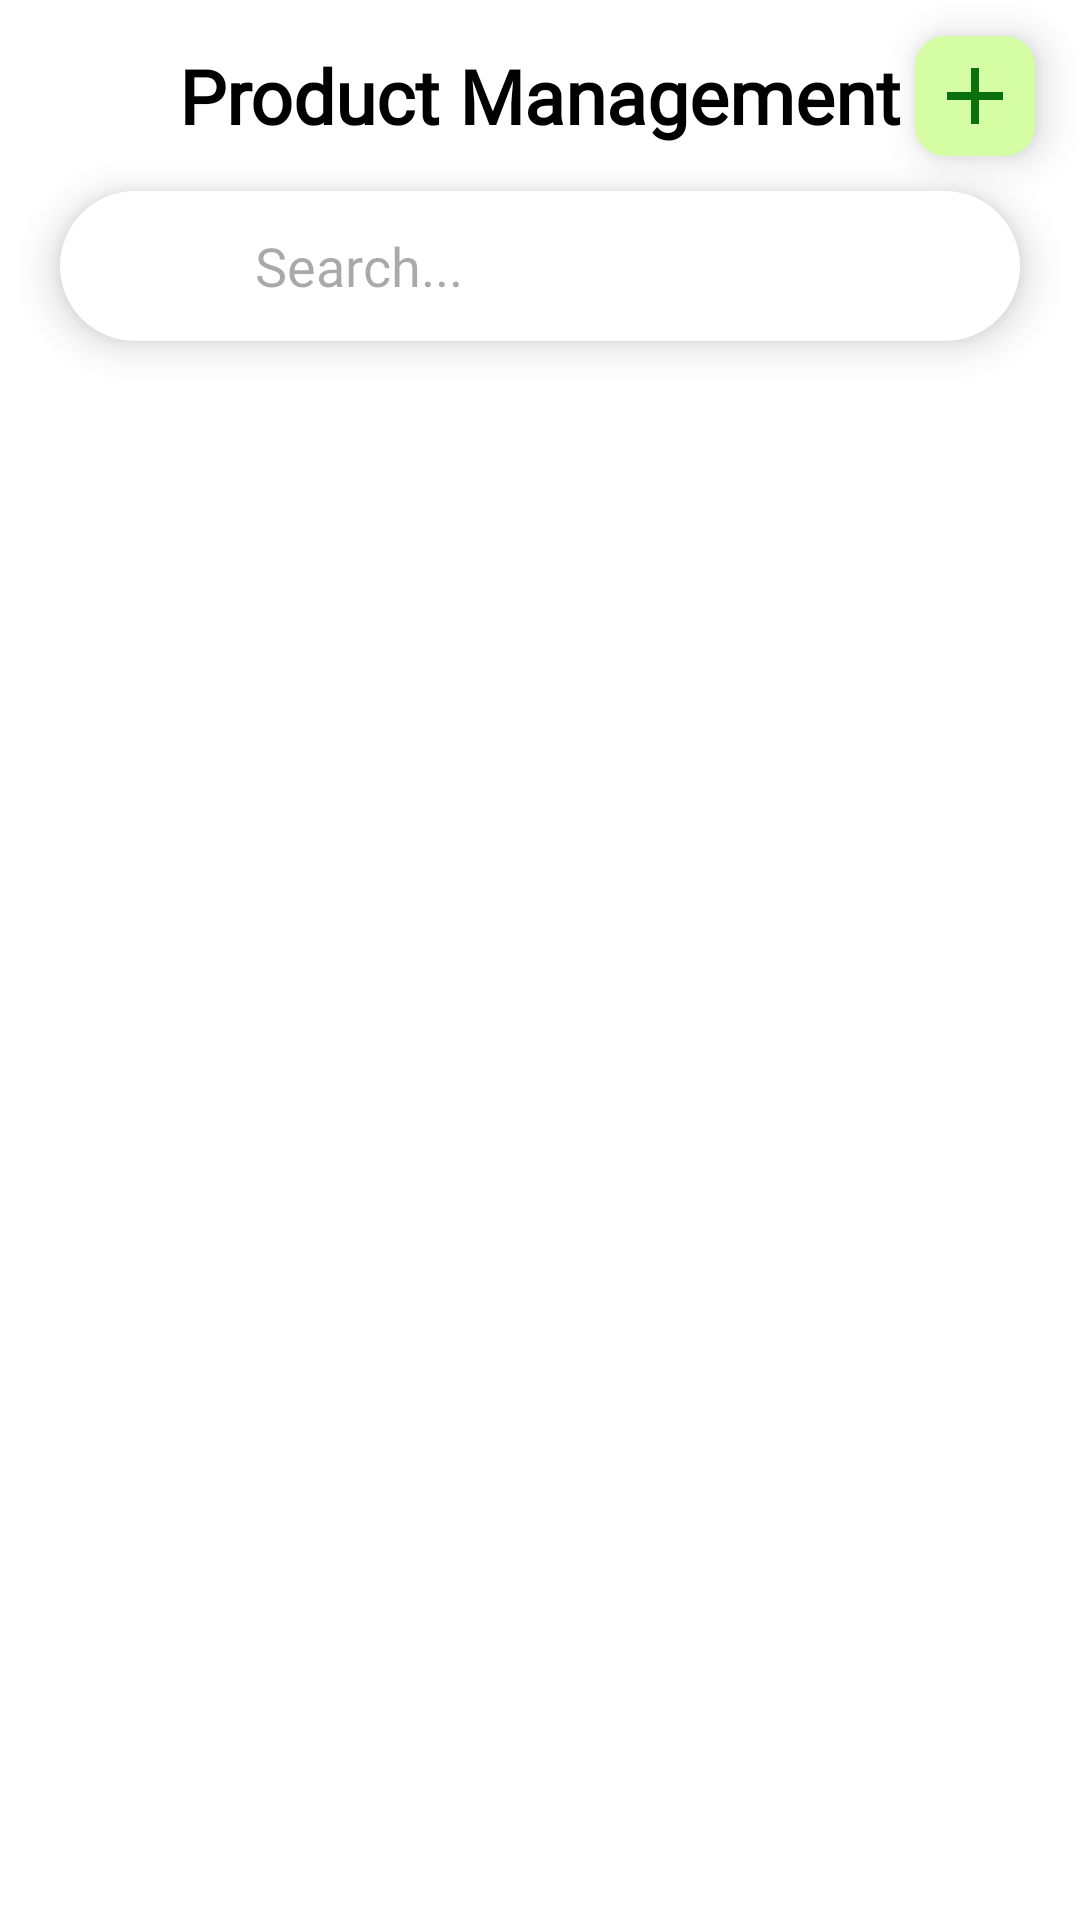

Locate icon controls on the screen. Image size 1080px×1920px, boxes as bbox(x1, y1, x2, y2).
add: bbox(915, 36, 1035, 156)
